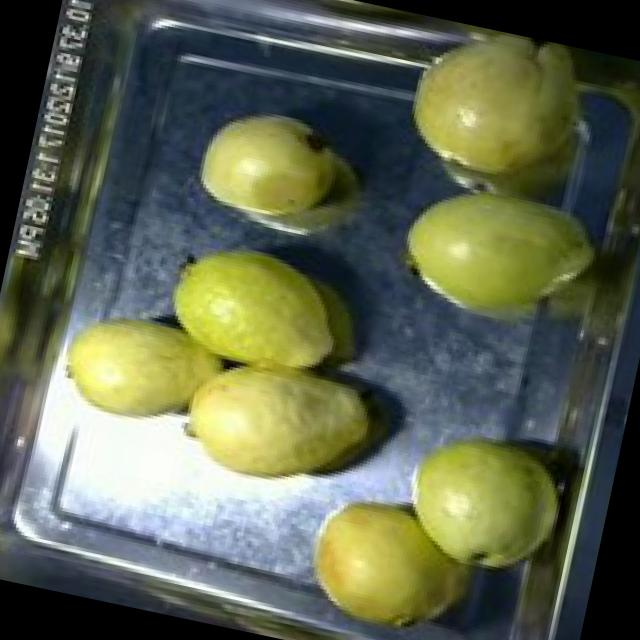Fruit: (385, 13, 637, 214), (158, 332, 408, 525), (378, 156, 611, 352), (380, 406, 586, 596), (146, 224, 368, 396), (279, 475, 494, 640), (35, 288, 234, 453), (180, 92, 356, 244)
